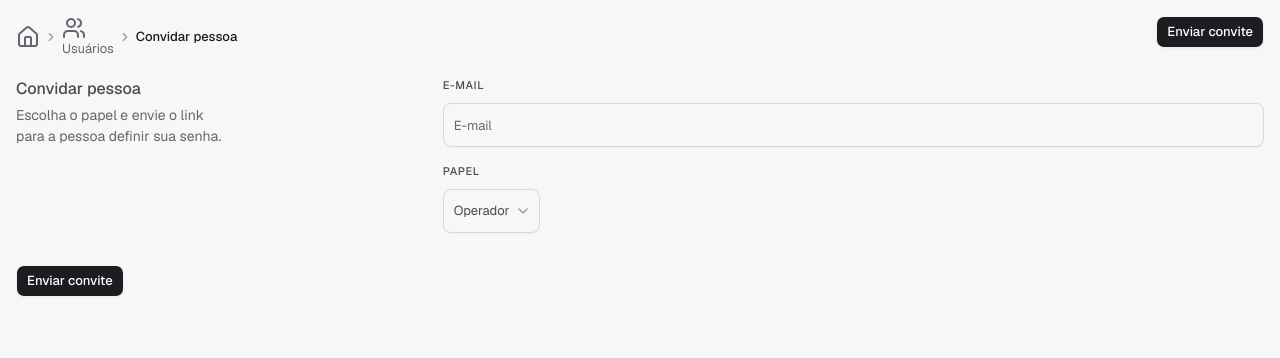
Test: UserInvitePage › preserves fields on response Este e-mail já pertence a um usuário.
This screenshot has width=1280, height=358.
Type "retry@example.com" into the field labelled "E-mail" at (853, 125), box [443,103,1264,147]
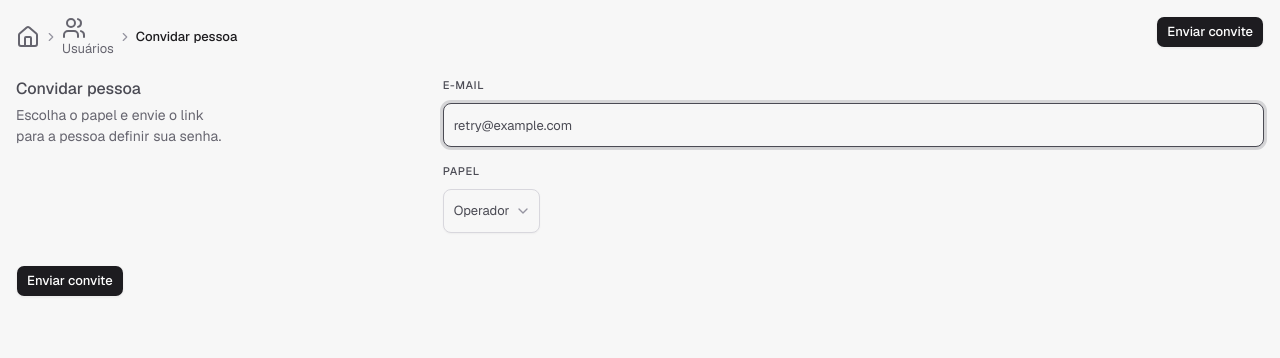
Click the button "Enviar convite" in the row of "Usuários" at (1210, 32), box [1156,16,1264,48]
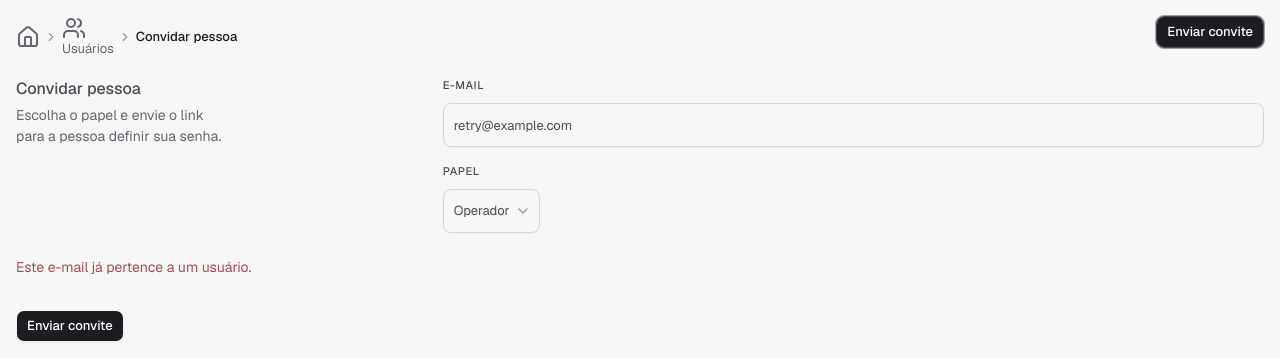
Expected: the dropdown shows "Operador", [443,189,540,233]
Expected: the message reads "Este e-mail já pertence a um usuário.", [16,258,251,276]
